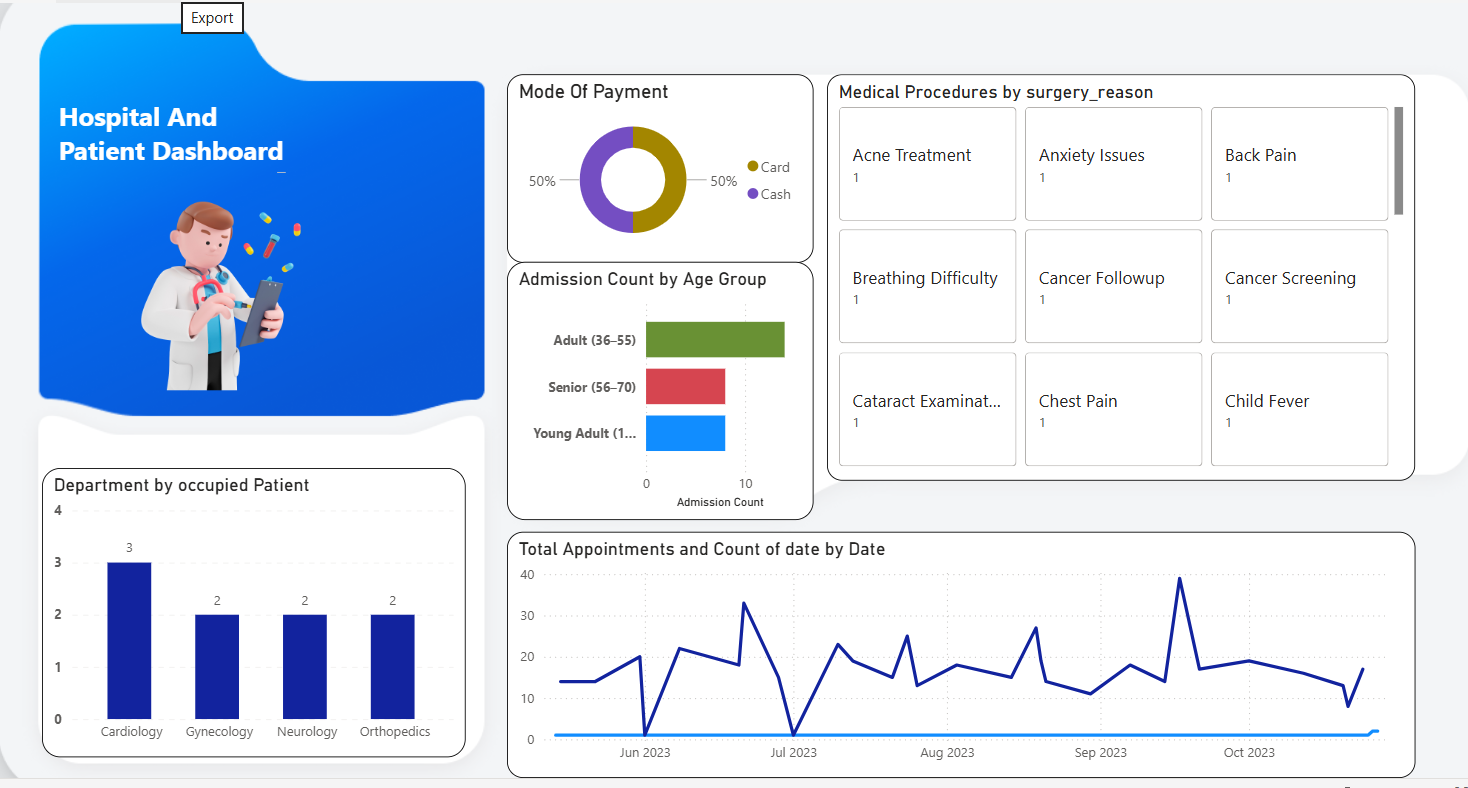

Layout of this report page (visuals, bound fields, positions):
{"tool":"powerbi","page":{"name":"Finance","canvas":[1280,720],"ordinal":4},"visuals":[{"type":"image","box":[11,173.6,316.7,185.9],"z":0},{"type":"textbox","title":"Hospital And Patient Dashboard","box":[11,88,221.3,74.6],"z":2000},{"type":"columnChart","title":"Department by occupied Patient","fields":{"Category":["Patient_info.department_name"],"Y":["CountNonNull(Patient_info.beds_occupied_from)"]},"box":[0,431.7,393.8,269],"z":3000},{"type":"donutChart","title":"Mode Of Payment","fields":{"Category":["Patient_info.Payment Type"],"Y":["Measure.Payment Count"]},"box":[431.7,66,284.9,174.9],"z":4000},{"type":"advancedSlicerVisual","fields":{"Values":["Patient_info.surgery_reason"],"Label":["Measure.Medical Procedures"]},"box":[728.8,66,546.6,377.9],"z":5000},{"type":"barChart","fields":{"Category":["Patient_info.Age Group"],"Y":["Measure.Admission Count"]},"box":[431.7,240.9,284.9,239.7],"z":6000},{"type":"lineChart","fields":{"Category":["Calendar.Date"],"Y":["Measure.Total Appointments","CountNonNull(medicine_patient.date)"]},"box":[431.7,491.6,843.8,228.7],"z":7000}]}

Visuals, with their boxes in screenshot pixels (x1, y1, x2, y2):
image: x1=46 y1=187 x2=388 y2=388
"Hospital And Patient Dashboard" textbox: x1=46 y1=95 x2=285 y2=175
"Department by occupied Patient" columnChart: x1=34 y1=466 x2=459 y2=756
"Mode Of Payment" donutChart: x1=500 y1=71 x2=807 y2=260
advancedSlicerVisual - Patient_info.surgery_reason x Measure.Medical Procedures: x1=821 y1=71 x2=1410 y2=479
barChart - Patient_info.Age Group x Measure.Admission Count: x1=500 y1=260 x2=807 y2=518
lineChart - Calendar.Date x Measure.Total Appointments: x1=500 y1=530 x2=1410 y2=777
